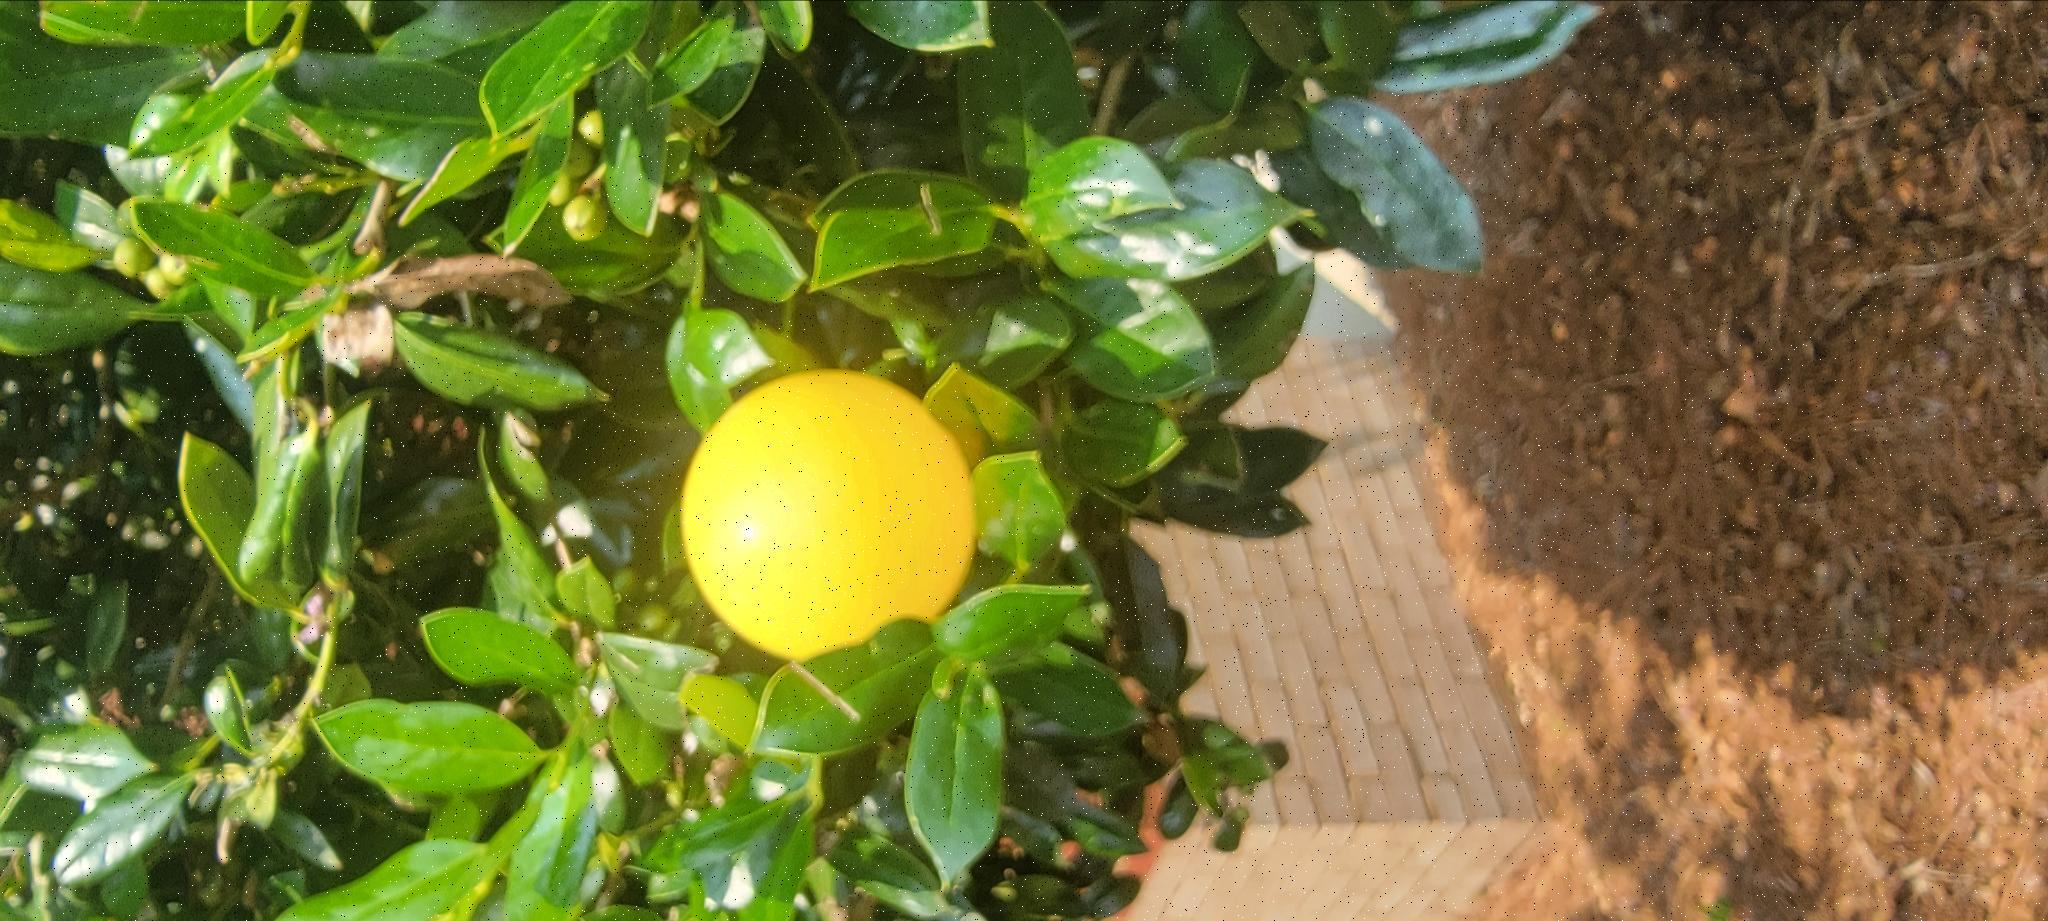Yellow-Ball: (253, 681, 549, 921)
